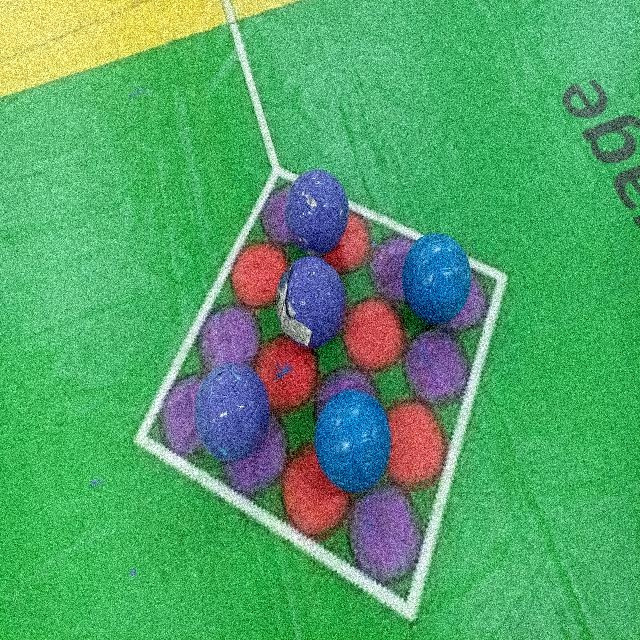blue_ball: (396, 223, 478, 330), (316, 388, 394, 494), (339, 338, 354, 352)
purple_ball: (196, 363, 273, 463), (284, 159, 350, 255), (276, 257, 344, 344)
